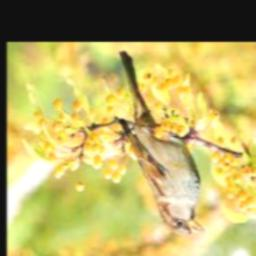Sparrow: (119, 51, 204, 237)
